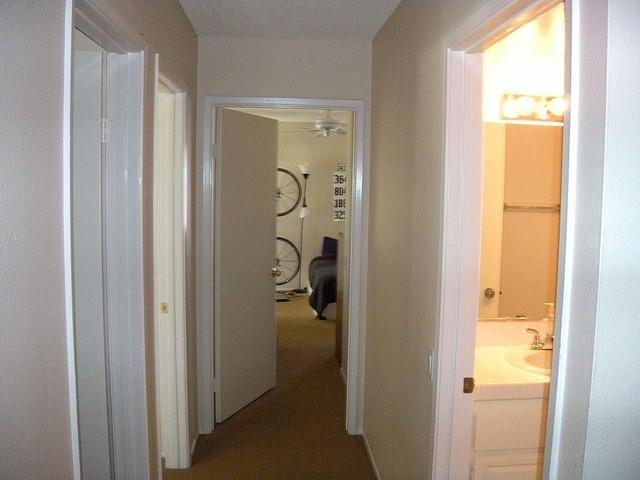bicycle: (274, 166, 302, 286)
